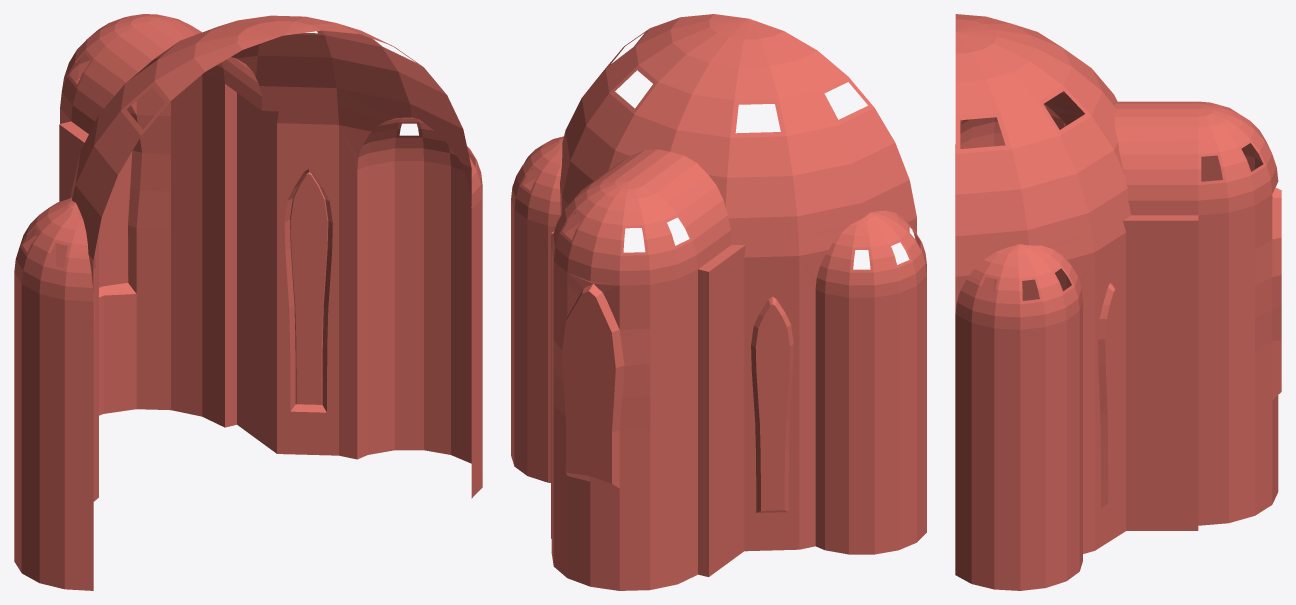
File: mainAltar_v014.fbx
3 renders of one model, left to right at view 1: azimuth 30°, elevation 25°; view 2: azimuth 150°, elevation 25°; view 3: azimuth 270°, elevation 25°, orthographic. The views are drawn at different scales.
Visible parts, largest first — view 1: MainAltarBody; view 2: MainAltarBody; view 3: MainAltarBody.
Part boxes in pixels (bbox=[...]): MainAltarBody: bbox=[14, 14, 482, 590]; MainAltarBody: bbox=[511, 14, 926, 590]; MainAltarBody: bbox=[955, 14, 1281, 590].
Bounding box in the file's own units: 3020 × 3267 × 2101.
